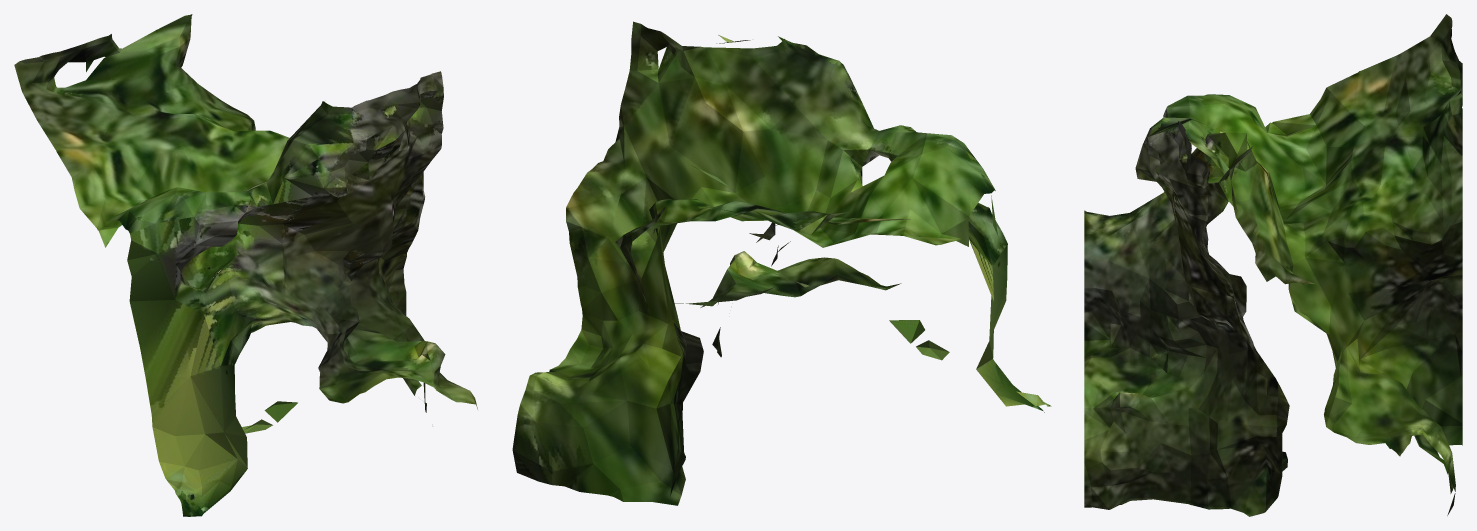
3 views of the same model, side by side, from view 1: azimuth 30°, elevation 25°; view 2: azimuth 150°, elevation 25°; view 3: azimuth 270°, elevation 25° (orthographic). The views are drawn at different scales.
Size of the model in its own units: 0.8373 by 0.8374 by 0.8373.
Materials: 6 (6 with a texture image).
